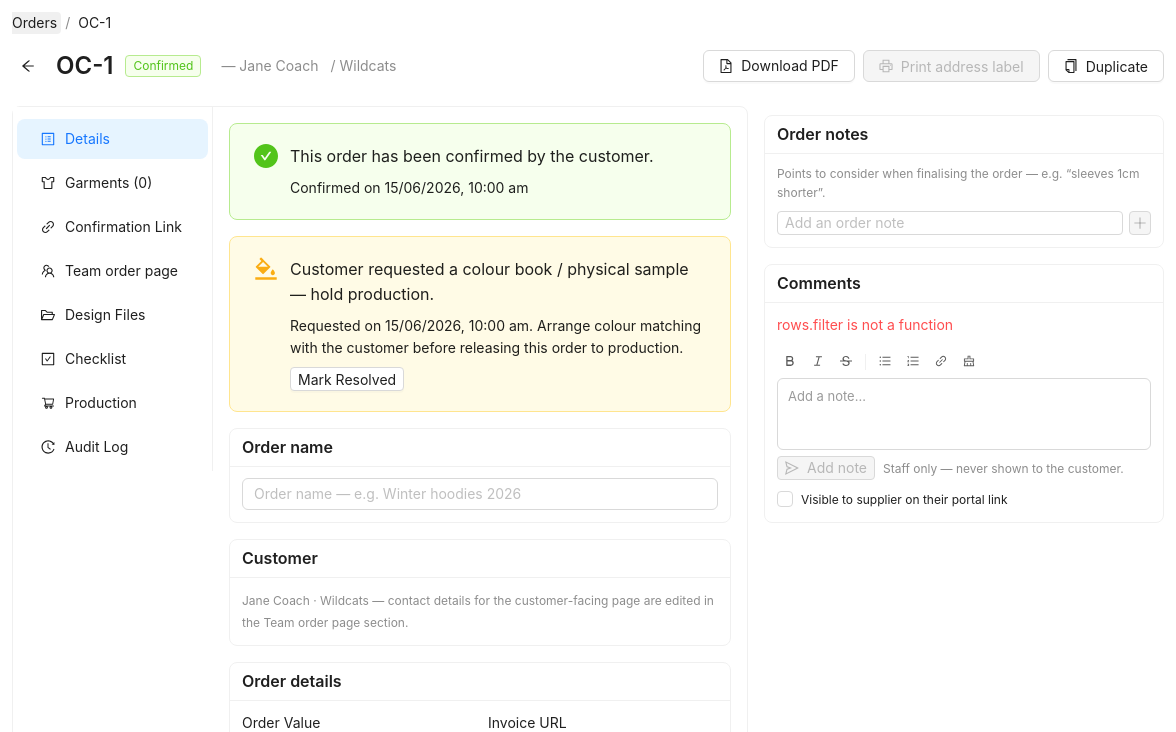
Test: OrderDetailView › shows an error message when resolving fails, and keeps the alert
Click the button "Mark Resolved".
click(347, 379)  # box 290,367 -> 404,391
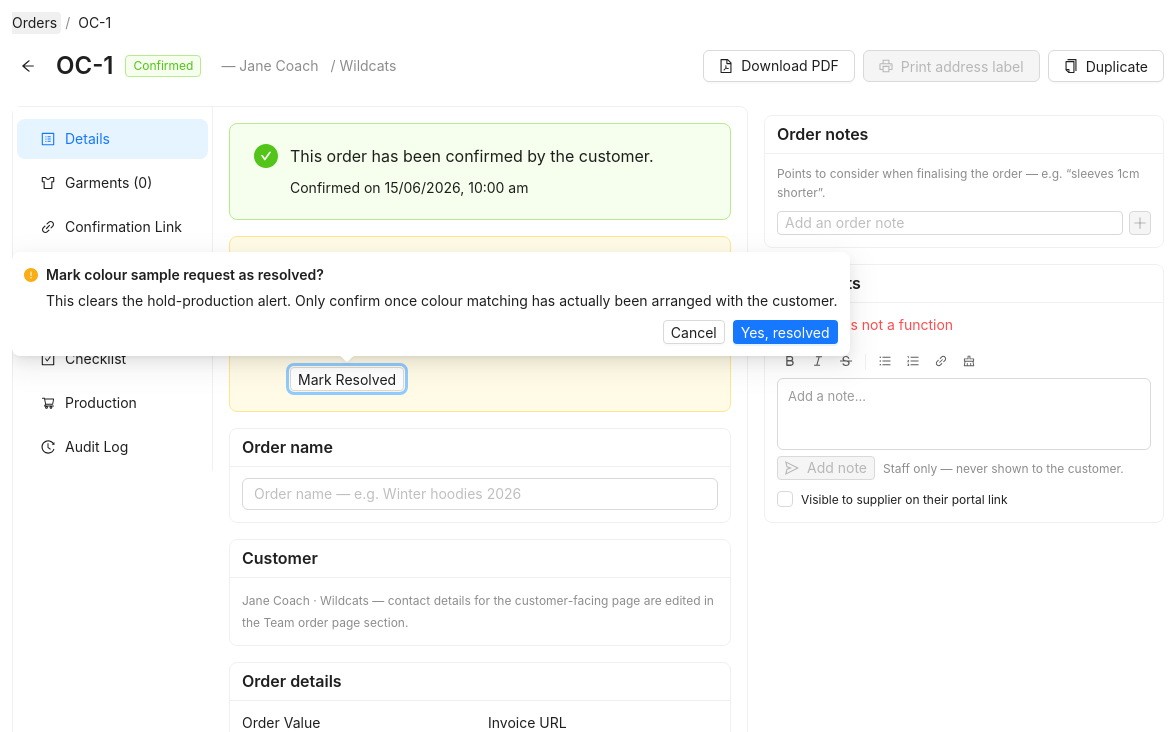
Click the button "Yes, resolved".
click(785, 332)  # box 733,320 -> 838,344
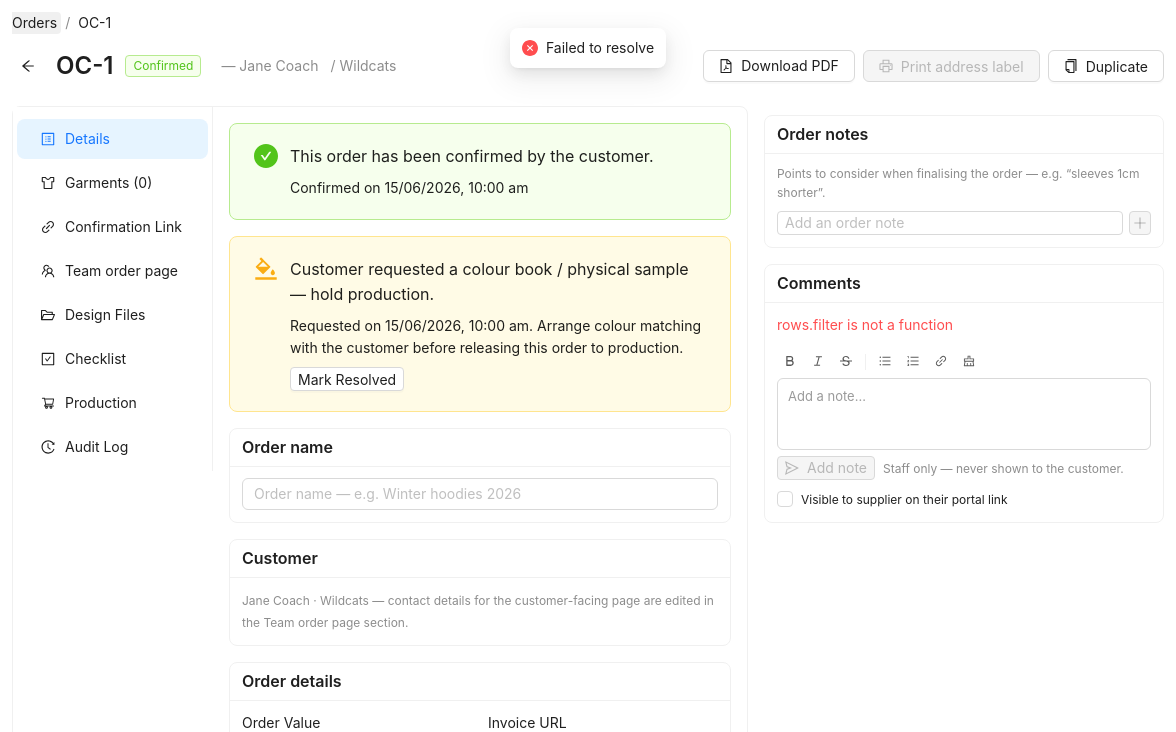
Expected: the text "Customer requested a colour book / physical sample — hold production." is shown, 290,257 -> 706,307
Expected: the text "Failed to resolve" is shown, 546,37 -> 654,59
